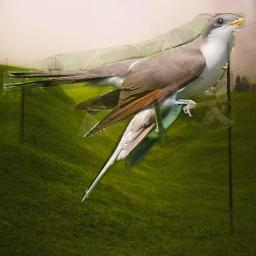Cuckoo: (3, 13, 245, 137), (79, 71, 204, 204)
